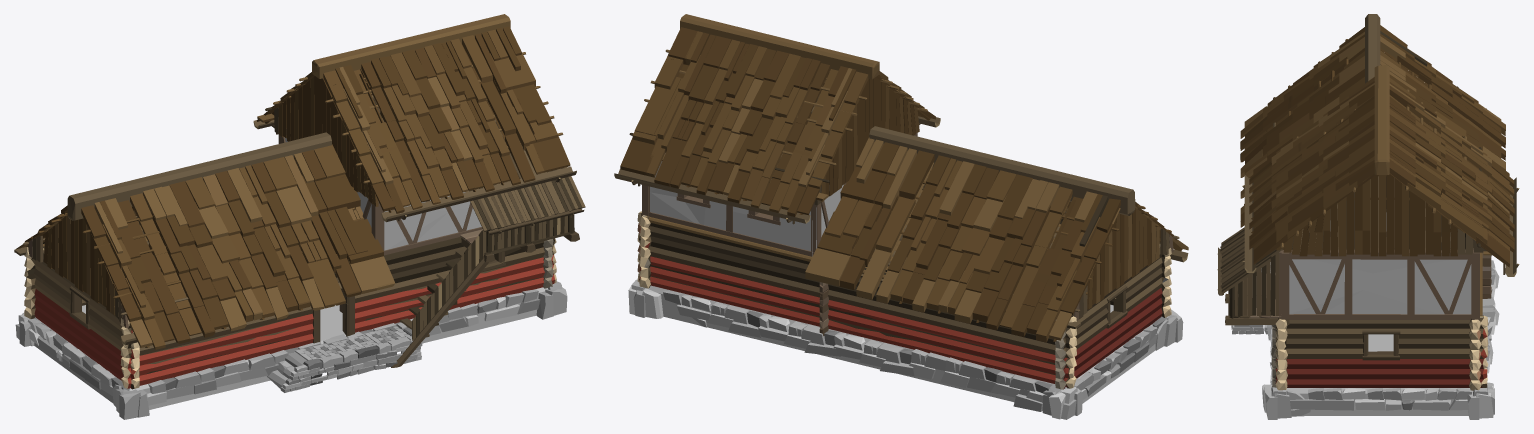
Rendered from EA03_Town_Building_Administrative _01a.fbx.
3 views of the same model, side by side, from view 1: azimuth 30°, elevation 25°; view 2: azimuth 150°, elevation 25°; view 3: azimuth 270°, elevation 25° (orthographic).
Visible parts, largest first — view 1: EA03_Town_Building_Administrative _01a_LOD0; view 2: EA03_Town_Building_Administrative _01a_LOD0; view 3: EA03_Town_Building_Administrative _01a_LOD0.
Part boxes in pixels (x1,y1,x2,y2): EA03_Town_Building_Administrative _01a_LOD0: (14, 14, 585, 419); EA03_Town_Building_Administrative _01a_LOD0: (614, 14, 1188, 419); EA03_Town_Building_Administrative _01a_LOD0: (1217, 14, 1519, 419).
Size of what is drawn, in the model's own units: 20.64 by 11.28 by 11.91.
